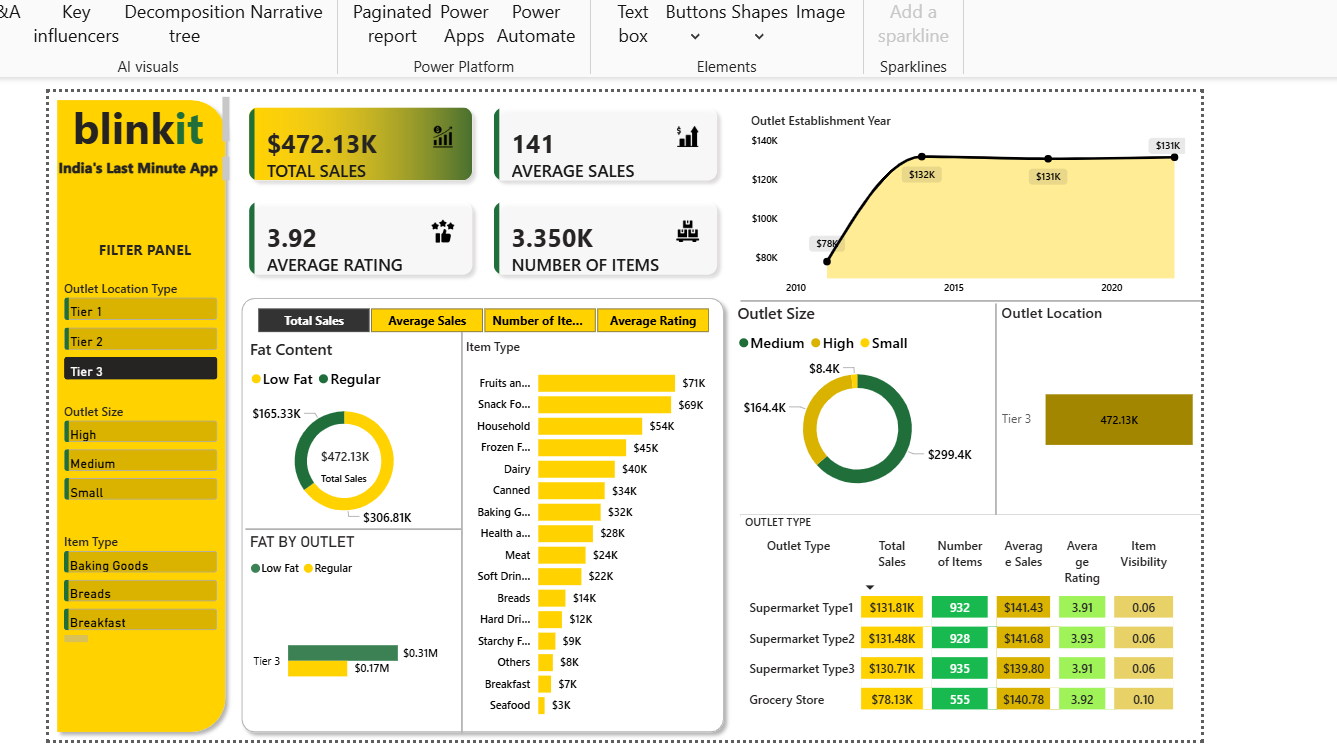

Layout of this report page (visuals, bound fields, positions):
{"tool":"powerbi","page":{"name":"Page 1","canvas":[1280,720],"ordinal":0},"visuals":[{"type":"shape","box":[0,0,205,720],"z":0},{"type":"textbox","box":[0,0,205.6,66.4],"z":1000},{"type":"textbox","box":[0,66.4,205.6,42.1],"z":2000},{"type":"cardVisual","fields":{"Data":["BlinkIT Grocery Data.Total Sales","BlinkIT Grocery Data.Average Sales","BlinkIT Grocery Data.Average Rating","BlinkIT Grocery Data.Number of Items"]},"box":[205.6,0,554,220],"z":3000},{"type":"shape","box":[205.6,220.2,553.8,500.3],"z":4000},{"type":"donutChart","title":"Fat Content","fields":{"Y":["BlinkIT Grocery Data.Number of Items"],"Category":["BlinkIT Grocery Data.Item Fat Content"]},"box":[218.6,273.6,218.6,217],"z":5000},{"type":"slicer","fields":{"Values":["Metrics .Metrics "]},"box":[207.3,233.2,550.5,40.5],"z":6000},{"type":"cardVisual","fields":{"Data":["BlinkIT Grocery Data.Number of Items"]},"box":[285,359.5,111.7,111.7],"z":7000},{"type":"clusteredBarChart","title":"FAT BY OUTLET","fields":{"Y":["BlinkIT Grocery Data.Number of Items"],"Category":["BlinkIT Grocery Data.Outlet Location Type"],"Series":["BlinkIT Grocery Data.Item Fat Content"]},"box":[218.6,490.6,218.6,229.9],"z":8000},{"type":"shape","box":[218.6,375.7,240,221.4],"z":9000},{"type":"shape","box":[421.4,267.1,74.3,445.7],"z":10000},{"type":"barChart","title":"Item Type","fields":{"Y":["BlinkIT Grocery Data.Number of Items"],"Category":["BlinkIT Grocery Data.Item Type"]},"box":[458.2,273.6,286.6,432.3],"z":11000},{"type":"lineChart","title":"Outlet Establishment Year","fields":{"Category":["BlinkIT Grocery Data.Outlet Establishment Year"],"Y":["BlinkIT Grocery Data.Total Sales"]},"box":[775.6,21,492.2,212.1],"z":12000},{"type":"donutChart","title":"Outlet Size","fields":{"Y":["BlinkIT Grocery Data.Total Sales"],"Category":["BlinkIT Grocery Data.Outlet Size"]},"box":[760,232.9,275.7,225.7],"z":13000},{"type":"funnel","title":"Outlet Location","fields":{"Y":["Sum(BlinkIT Grocery Data.Sales)"],"Category":["BlinkIT Grocery Data.Outlet Location Type"]},"box":[1052.9,232.9,227.1,238.6],"z":14000},{"type":"shape","box":[1015.7,234.3,74.3,237.1],"z":15000},{"type":"shape","box":[768.6,452.9,511.4,34.3],"z":16000},{"type":"shape","box":[768.6,215.7,511.4,34.3],"z":17000},{"type":"pivotTable","title":"OUTLET TYPE","fields":{"Rows":["BlinkIT Grocery Data.Outlet Type"],"Values":["BlinkIT Grocery Data.Total Sales","BlinkIT Grocery Data.Number of Items","BlinkIT Grocery Data.Average Sales","BlinkIT Grocery Data.Average Rating","Avg(BlinkIT Grocery Data.Item Visibility)"]},"box":[768.6,470,511.4,250],"z":18000},{"type":"advancedSlicerVisual","fields":{"Values":["BlinkIT Grocery Data.Outlet Location Type"]},"box":[11.7,208.3,180,116.7],"z":19000},{"type":"advancedSlicerVisual","fields":{"Values":["BlinkIT Grocery Data.Outlet Size"]},"box":[11.7,345,180,113.3],"z":20000},{"type":"advancedSlicerVisual","fields":{"Values":["BlinkIT Grocery Data.Item Type"]},"box":[11.7,490,180,128.3],"z":21000},{"type":"textbox","box":[11.7,158.3,178.3,31.7],"z":22000}]}

Visuals, with their boxes on the page's 1280x720 design canvas (x1, y1, x2, y2). These are canvas units, not pixel positions in the 1337x752 screenshot, which may show the page scaled, cropped or inside an application window:
shape: 0/0/205/720
textbox: 0/0/206/66
textbox: 0/66/206/108
cardVisual - BlinkIT Grocery Data.Total Sales x BlinkIT Grocery Data.Average Sales: 206/0/760/220
shape: 206/220/759/720
"Fat Content" donutChart: 219/274/437/491
slicer - Metrics .Metrics : 207/233/758/274
cardVisual - BlinkIT Grocery Data.Number of Items: 285/360/397/471
"FAT BY OUTLET" clusteredBarChart: 219/491/437/720
shape: 219/376/459/597
shape: 421/267/496/713
"Item Type" barChart: 458/274/745/706
"Outlet Establishment Year" lineChart: 776/21/1268/233
"Outlet Size" donutChart: 760/233/1036/459
"Outlet Location" funnel: 1053/233/1280/472
shape: 1016/234/1090/471
shape: 769/453/1280/487
shape: 769/216/1280/250
"OUTLET TYPE" pivotTable: 769/470/1280/720
advancedSlicerVisual - BlinkIT Grocery Data.Outlet Location Type: 12/208/192/325
advancedSlicerVisual - BlinkIT Grocery Data.Outlet Size: 12/345/192/458
advancedSlicerVisual - BlinkIT Grocery Data.Item Type: 12/490/192/618
textbox: 12/158/190/190
